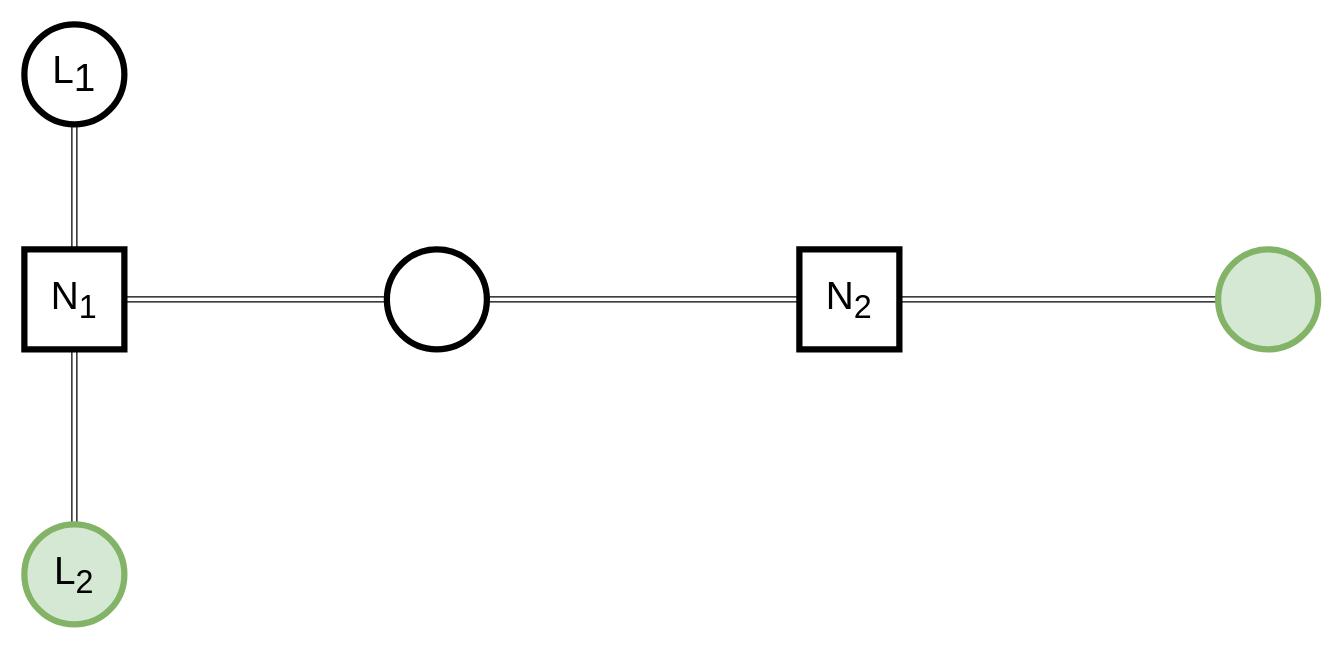
This 1343x649 diagram has some shape labels left out. Here are the shapes that lost their labels. From the top down, the centre of each, then its label:
point (436, 299): L 3
point (1267, 299): L 4
